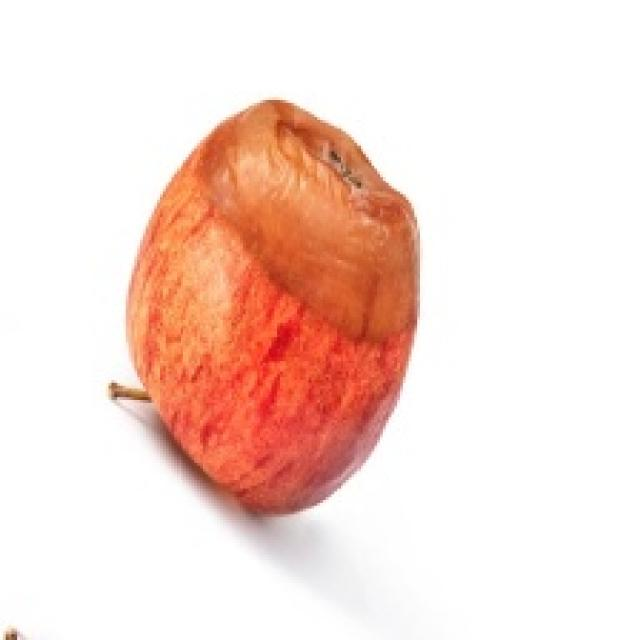rotten_apple: (130, 99, 418, 509)
